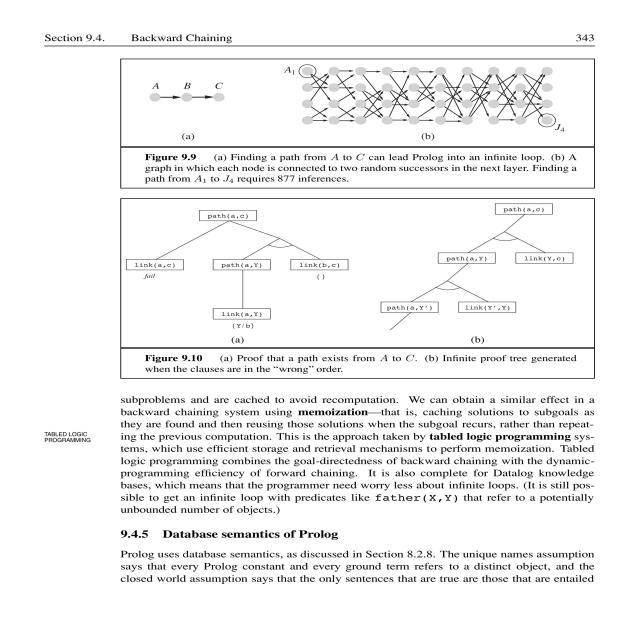diagram: (59, 52, 640, 388)
